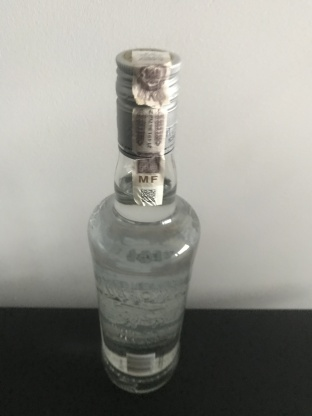nakretka: (113, 45, 182, 159)
